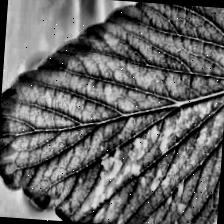Angular Leafspot: (69, 76, 224, 224)
